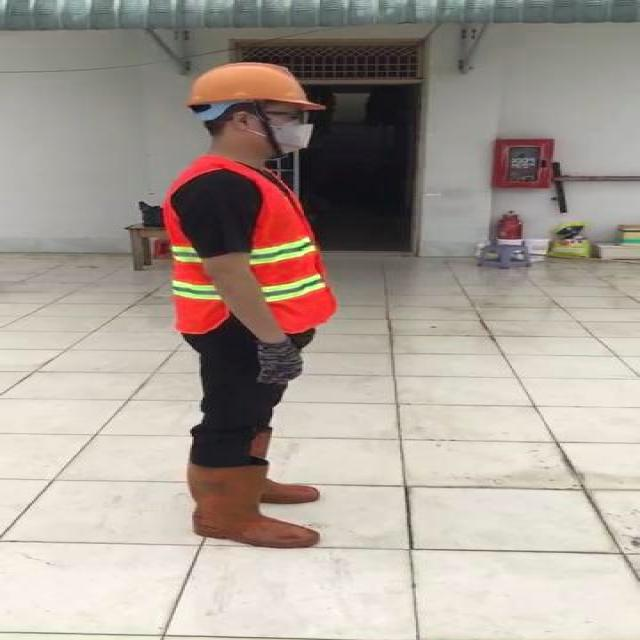boots: (189, 464, 323, 548)
face_mask: (243, 106, 321, 156)
hand_glove: (250, 337, 310, 384)
head_helmet: (185, 60, 323, 114)
person: (153, 56, 355, 557)
vest: (162, 158, 332, 334)
